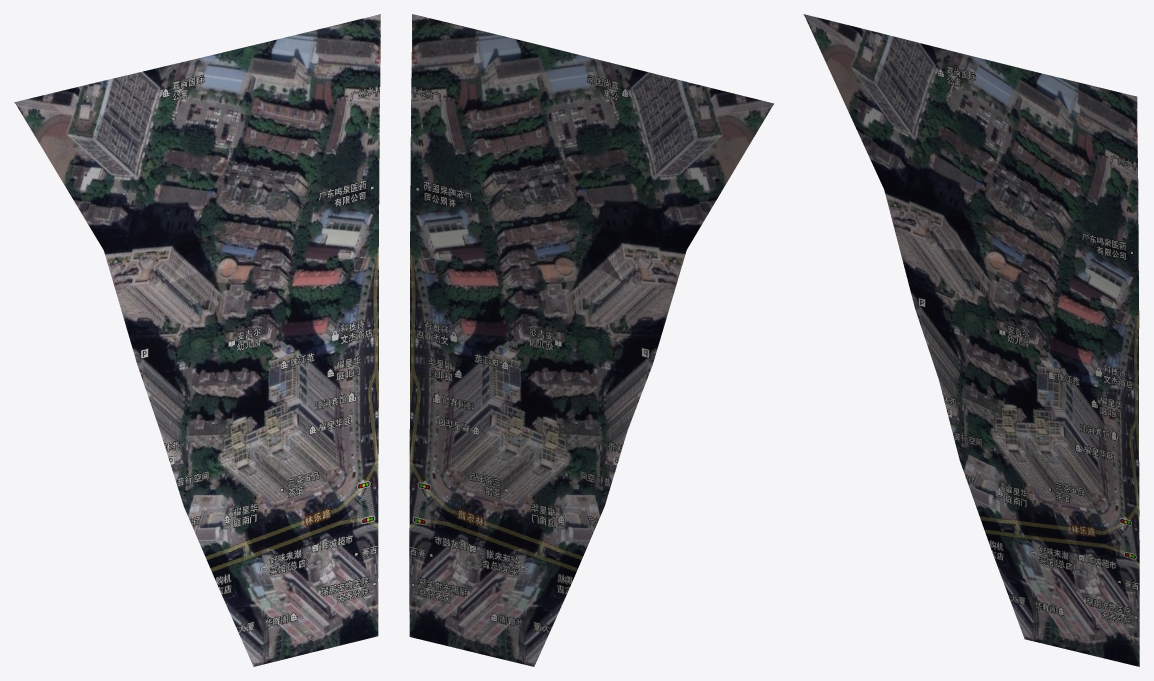
3 views of the same model, side by side, from view 1: azimuth 30°, elevation 25°; view 2: azimuth 150°, elevation 25°; view 3: azimuth 330°, elevation 25° (orthographic). The views are drawn at different scales.
Visible parts, largest first — view 1: 0_1_3_1_1_2; view 2: 0_1_3_1_1_2; view 3: 0_1_3_1_1_2.
Boxes of the visible parts, x1,y1,x2,y2 form: 0_1_3_1_1_2: (14, 14, 380, 666); 0_1_3_1_1_2: (409, 14, 773, 666); 0_1_3_1_1_2: (803, 14, 1139, 666).
Size of the model in its own units: 298 by 486 by 6.24.
Materials: 1 (1 with a texture image).
